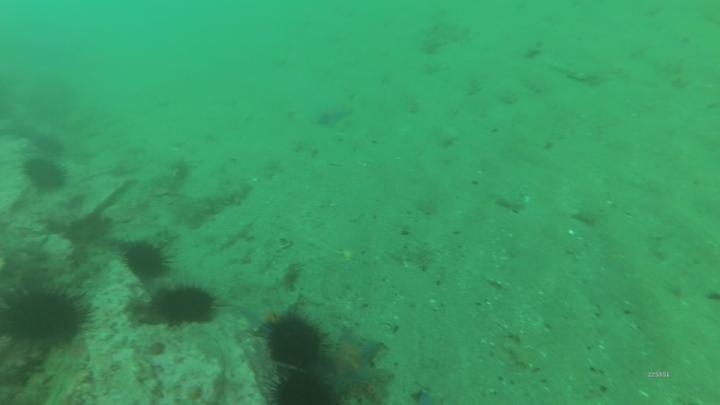echinus: (18, 291, 82, 337), (274, 319, 319, 365), (155, 290, 212, 324), (122, 242, 165, 279), (277, 375, 327, 405), (62, 214, 107, 241), (27, 160, 65, 189)
starfish: (329, 337, 378, 393), (319, 102, 349, 128)
